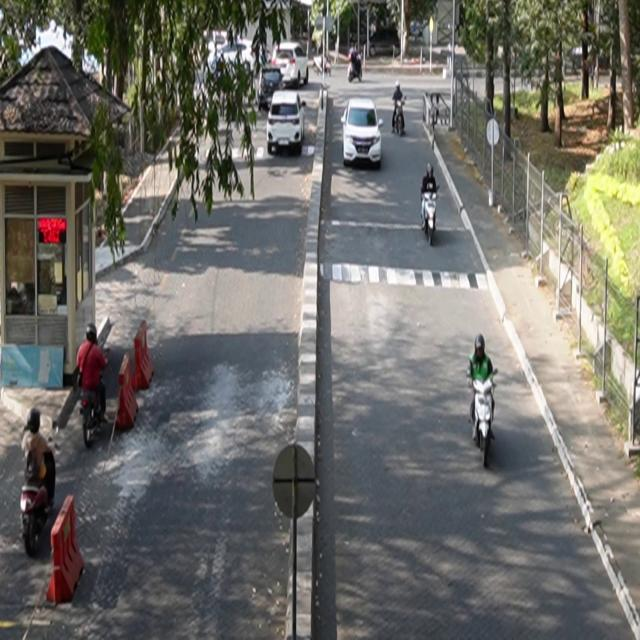car: (342, 98, 385, 169), (268, 91, 308, 156)
